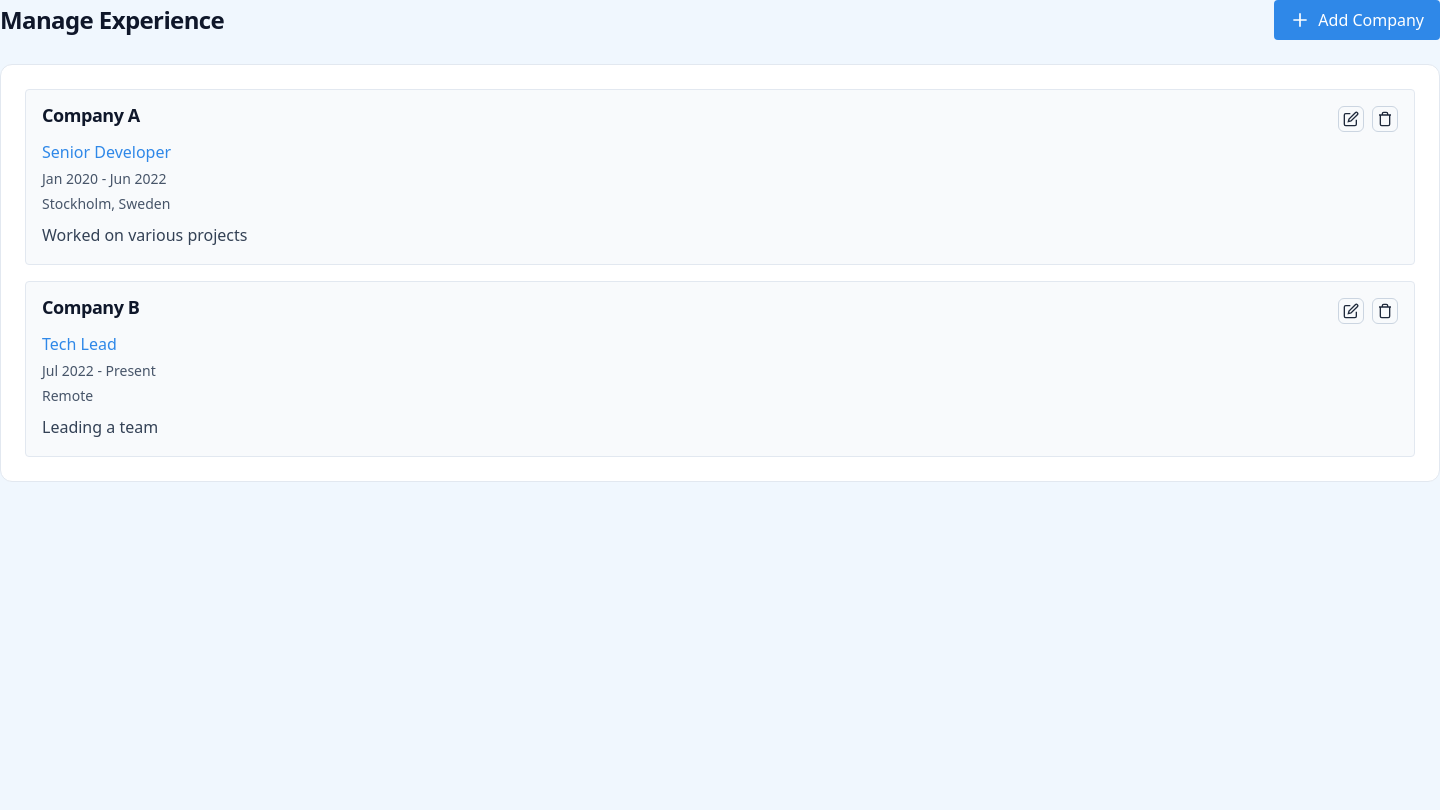
Test: AdminCompanies › Add Form › should show modal when add button is clicked
What coordinates should you click on to do the following:
click the button with class "add-button"
I would click on:
 (1357, 20)
Its box is [1274,0,1439,40].
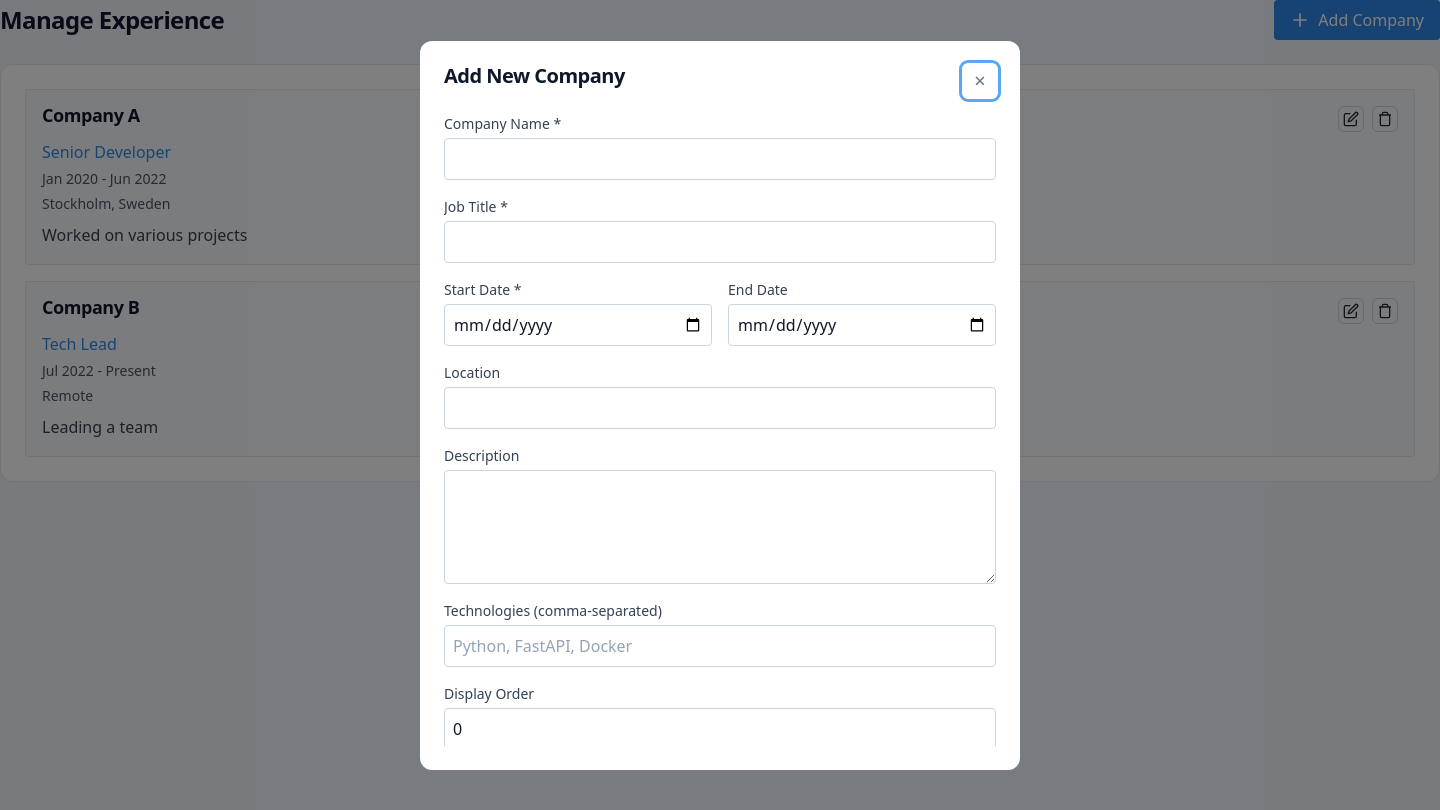
Expected: the dialog with class "modal-overlay" is shown
Expected: the heading with class "modal-title" reads "Add New Company", [444,62,625,88]
